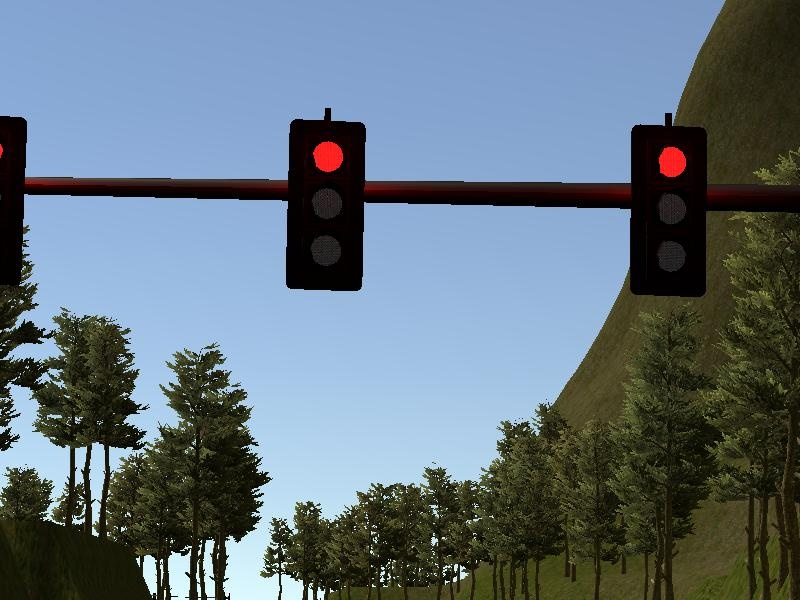Red: (283, 113, 369, 294), (626, 120, 712, 299), (1, 108, 31, 294)
